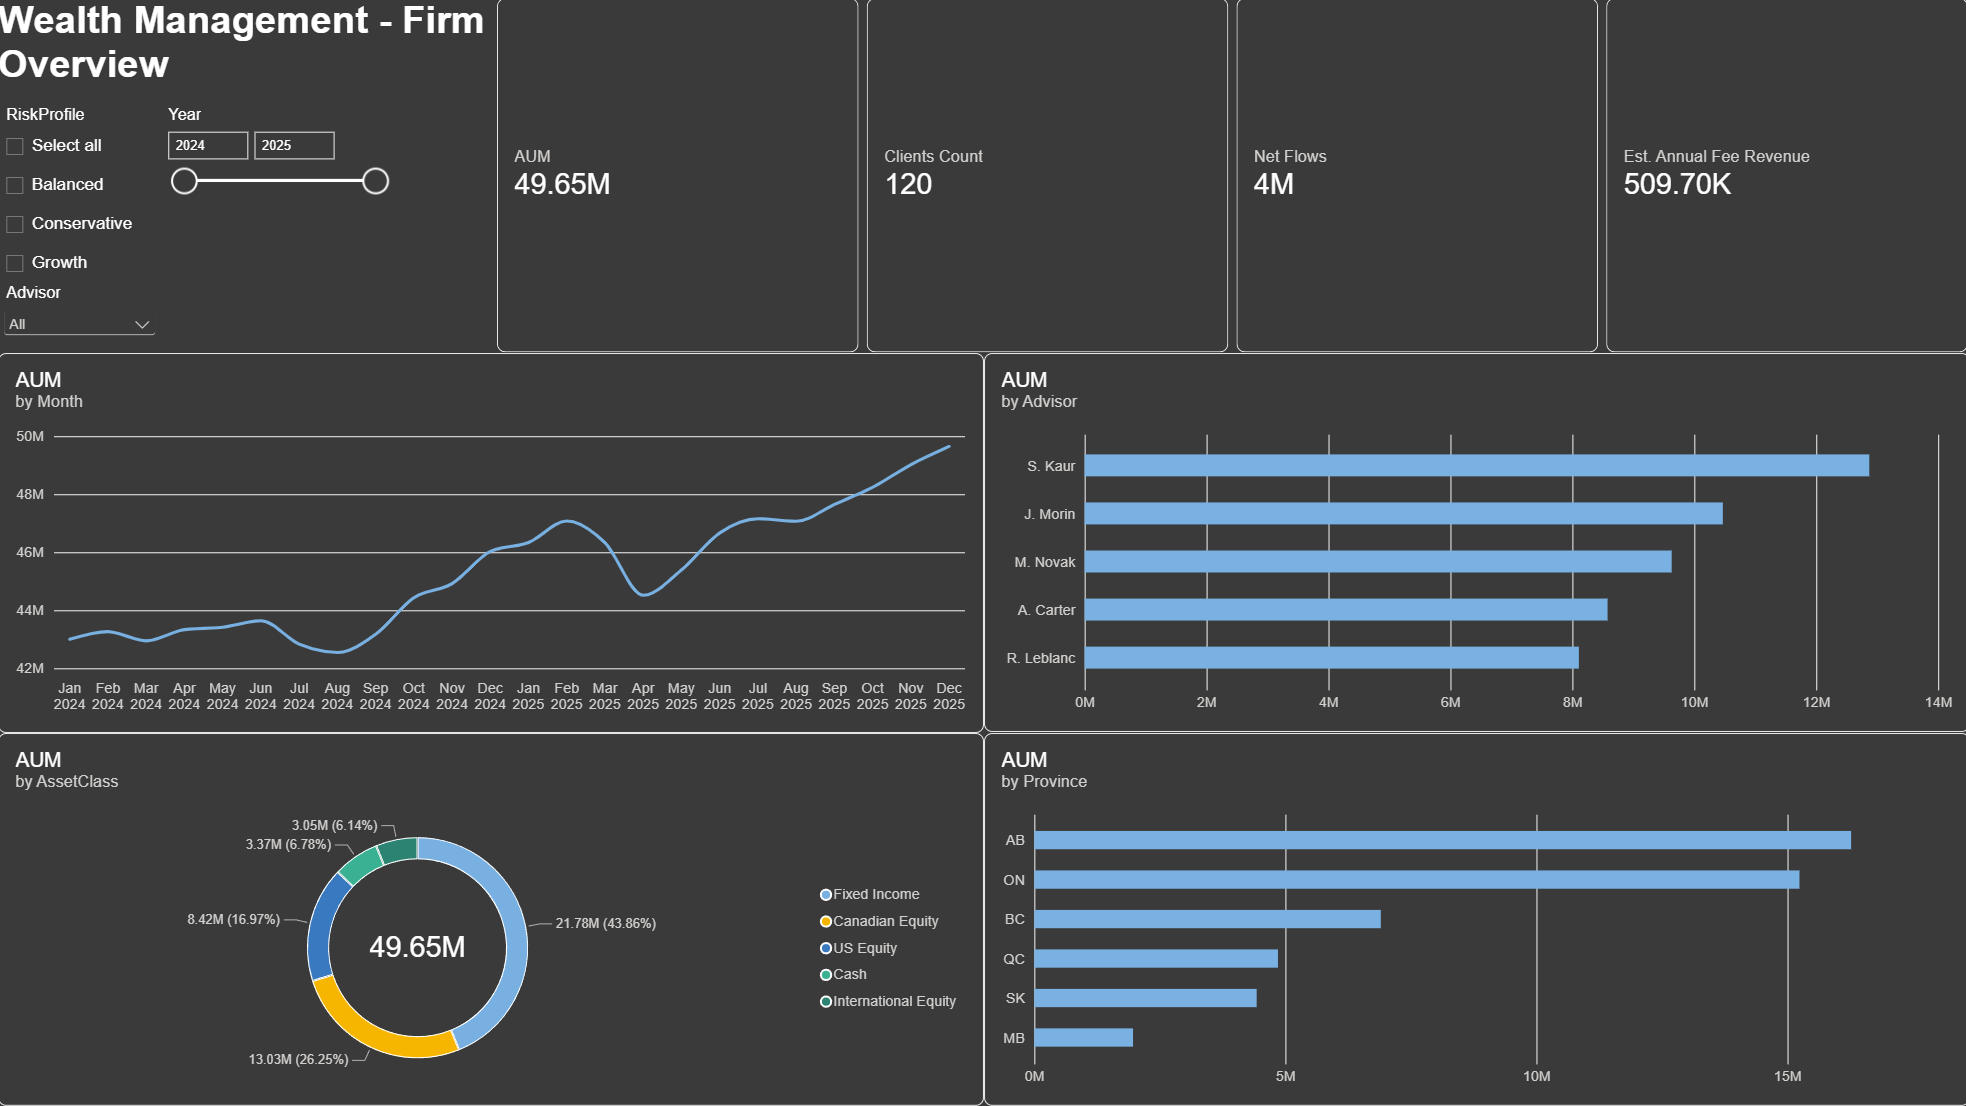

This screenshot's page, from the dashboard's own definition file:
{"tool":"powerbi","page":{"name":"Firm Overiew","canvas":[1920,1080],"ordinal":0},"visuals":[{"type":"cardVisual","fields":{"Data":["_Measures.AUM","_Measures.Clients Count","_Measures.Net Flows","_Measures.Est. Annual Fee Revenue"]},"box":[485.8,0,1434.2,345.6],"z":0},{"type":"lineChart","fields":{"Category":["Date.Month"],"Y":["_Measures.AUM"]},"box":[0,345.6,960,370],"z":1},{"type":"donutChart","fields":{"Category":["Assets.AssetClass"],"Y":["_Measures.AUM"]},"box":[0,715.6,960,363.2],"z":2},{"type":"clusteredBarChart","fields":{"Category":["Clients.Advisor"],"Y":["_Measures.AUM"]},"box":[960,345.6,960,369],"z":3},{"type":"clusteredBarChart","fields":{"Category":["Clients.Province"],"Y":["_Measures.AUM"]},"box":[960,715.6,960,363.2],"z":4},{"type":"slicer","fields":{"Values":["Clients.RiskProfile"]},"box":[0,105.2,157.7,177.2],"z":5},{"type":"slicer","fields":{"Values":["Clients.Advisor"]},"box":[0,278.5,158.7,67.2],"z":6},{"type":"slicer","fields":{"Values":["Date.Year"]},"box":[157.7,105.2,225.9,189.9],"z":7},{"type":"textbox","box":[0,0,485.8,105.2],"z":8}]}

Visuals, with their boxes in screenshot pixels (x1, y1, x2, y2), scaled from the page's 1920x1080 canvas onto the 1966x1106 screenshot:
cardVisual - _Measures.AUM x _Measures.Clients Count: 497:0:1965:354
lineChart - Date.Month x _Measures.AUM: 0:354:983:733
donutChart - Assets.AssetClass x _Measures.AUM: 0:733:983:1105
clusteredBarChart - Clients.Advisor x _Measures.AUM: 983:354:1965:732
clusteredBarChart - Clients.Province x _Measures.AUM: 983:733:1965:1105
slicer - Clients.RiskProfile: 0:108:161:289
slicer - Clients.Advisor: 0:285:163:354
slicer - Date.Year: 161:108:393:302
textbox: 0:0:497:108
